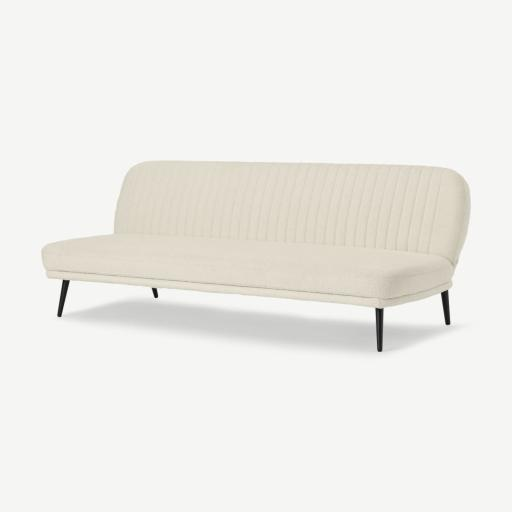back_cushion: (114, 162, 468, 263)
legs: (57, 280, 69, 317), (376, 308, 383, 351), (442, 290, 450, 325), (152, 288, 157, 298)
seat_cushion: (43, 234, 453, 307)
two-seater: (0, 0, 511, 512)
